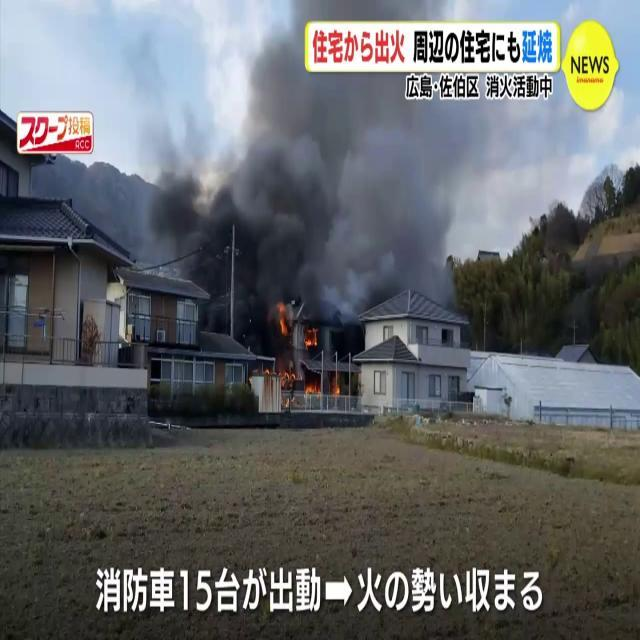Smoke: (135, 6, 479, 335)
